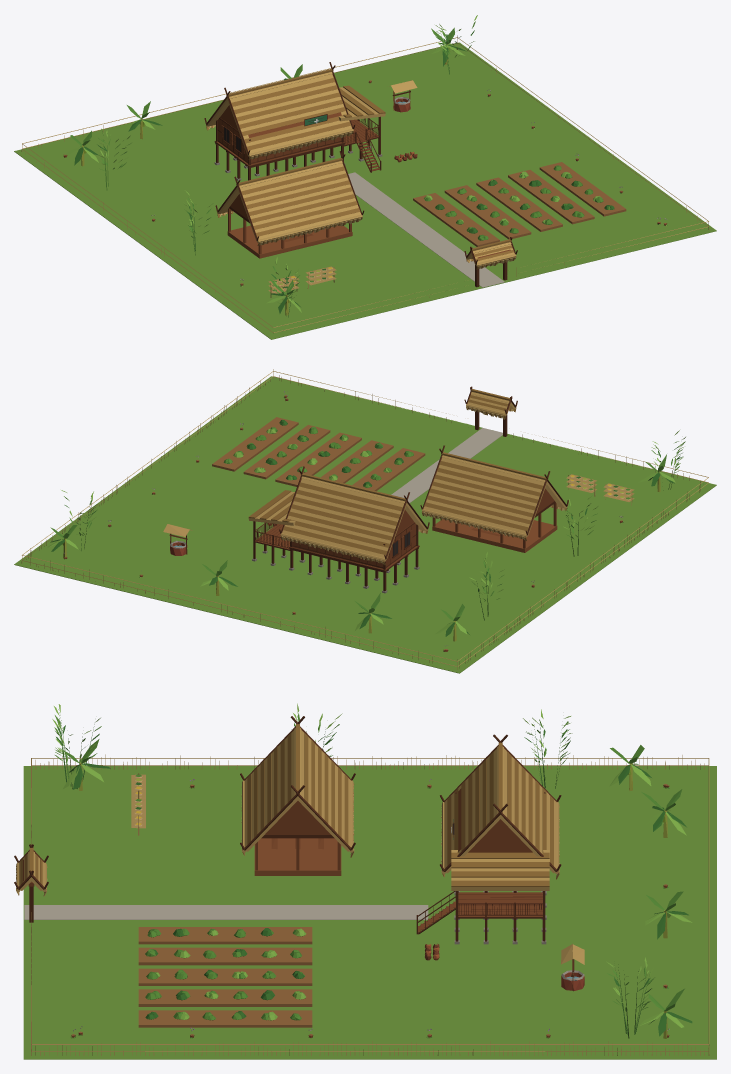
Rendered from hospital.glb.
The picture shows the model from 3 angles, top to bottom: view 1: azimuth 30°, elevation 25°; view 2: azimuth 150°, elevation 25°; view 3: azimuth 270°, elevation 25°; orthographic projection. The views are drawn at different scales.
Parts seen in each view (by area): view 1: body; view 2: body; view 3: body.
Part boxes in pixels (bbox=[...]): body: bbox=[14, 15, 716, 339]; body: bbox=[14, 369, 716, 673]; body: bbox=[14, 703, 716, 1059].
Bounding box in the file's own units: 47.9 × 9.35 × 48.56.
